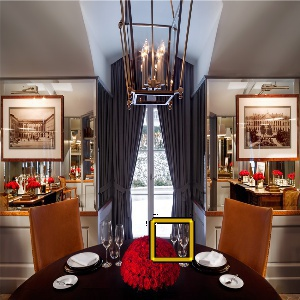square: (149, 214, 197, 265)
